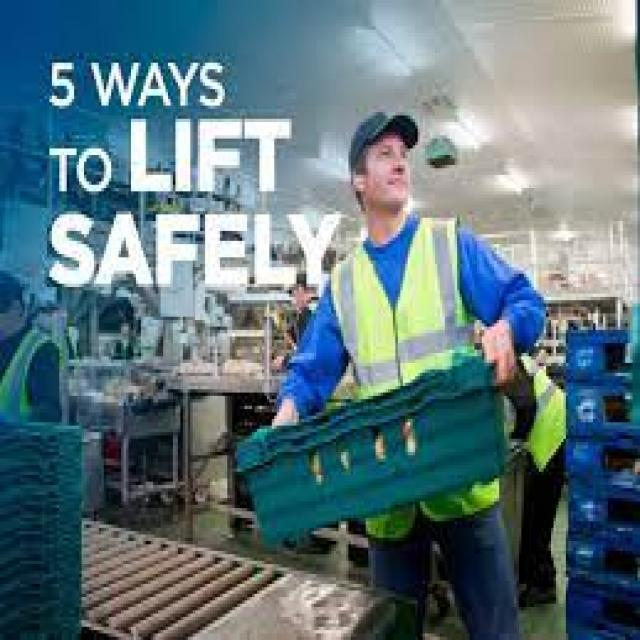Reflective-Jacket: (324, 211, 566, 535), (0, 314, 82, 614)
